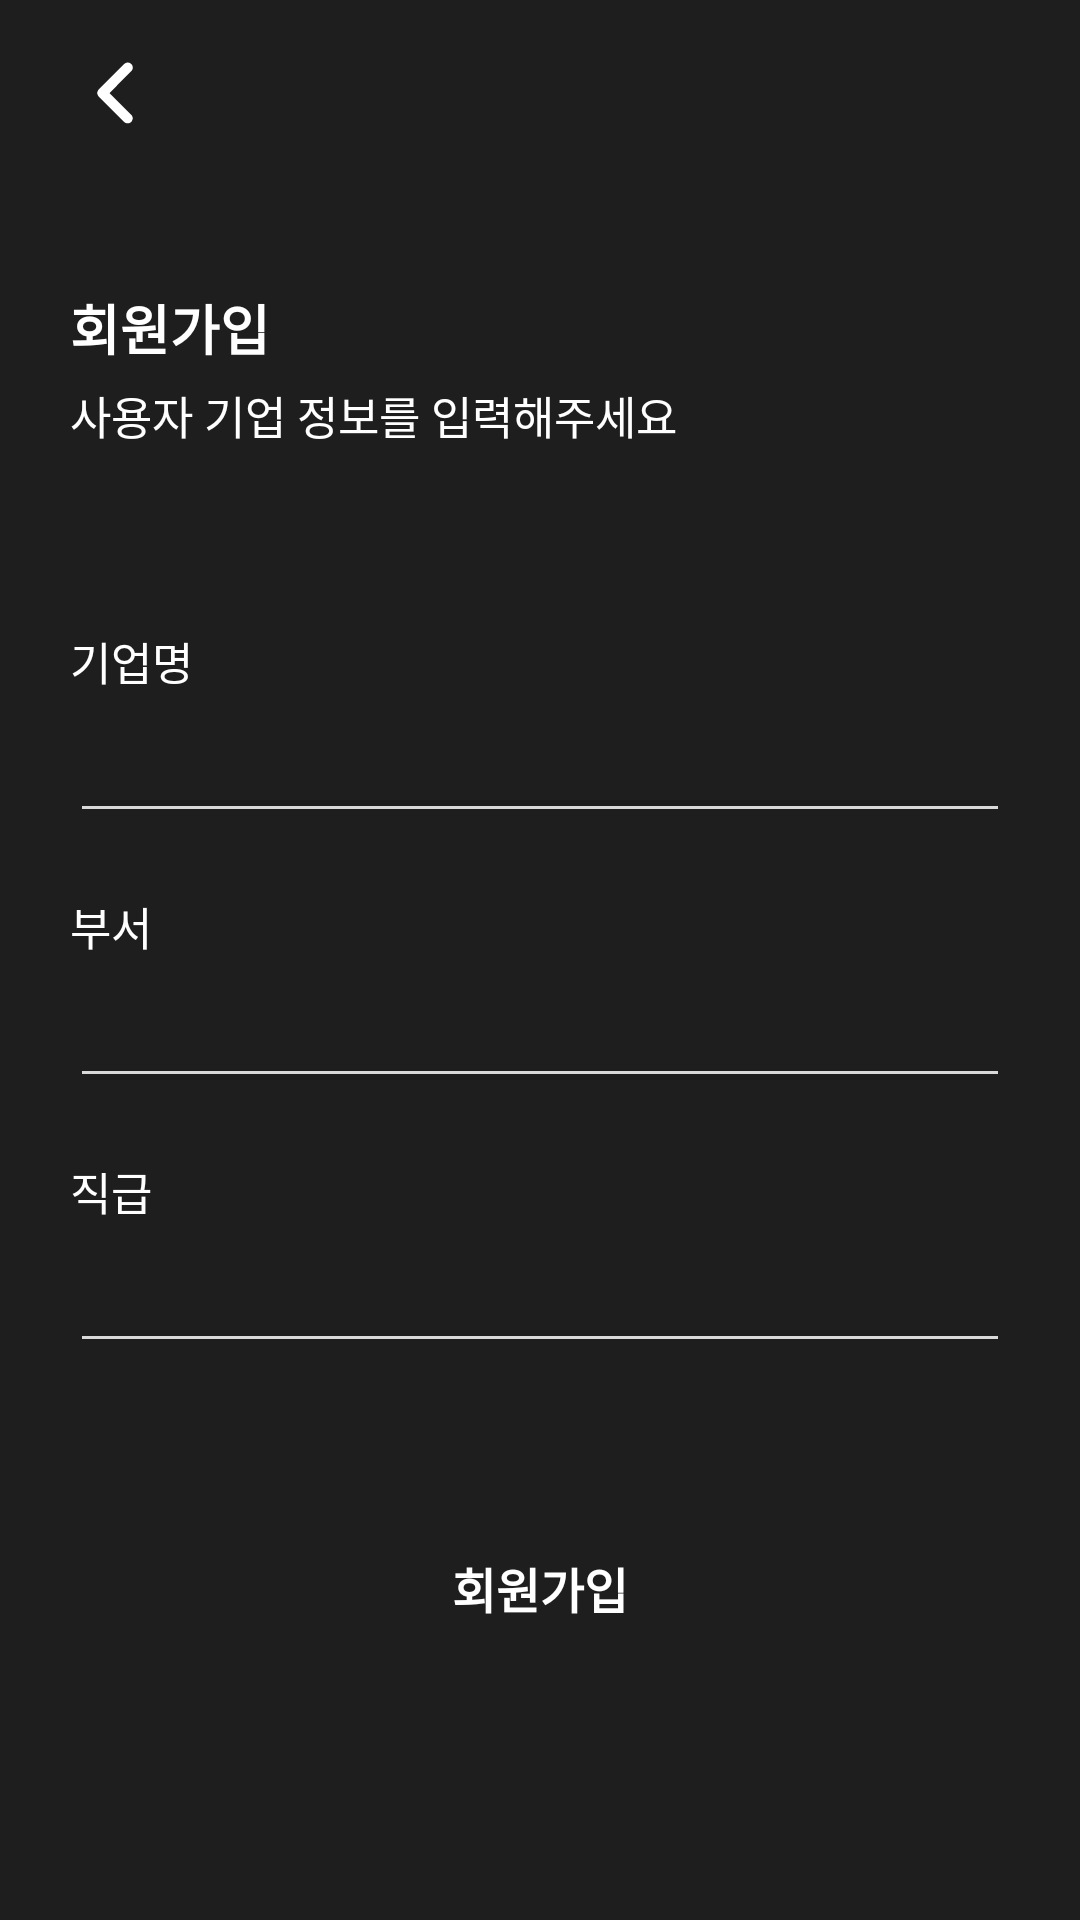

Icon bounding boxes for this 1080w x 1920h phone screenshot, format (x1, y1, x2, y2):
back: (97, 62, 133, 124)
